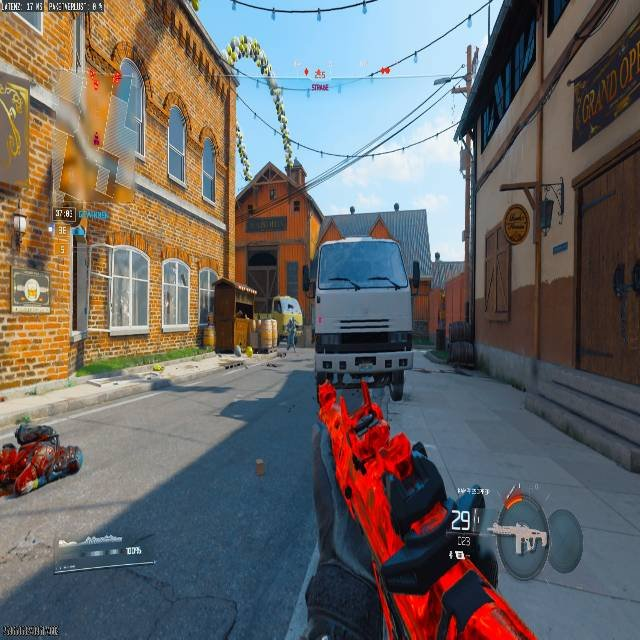head: (58, 444, 83, 474)
player: (285, 318, 298, 353)
